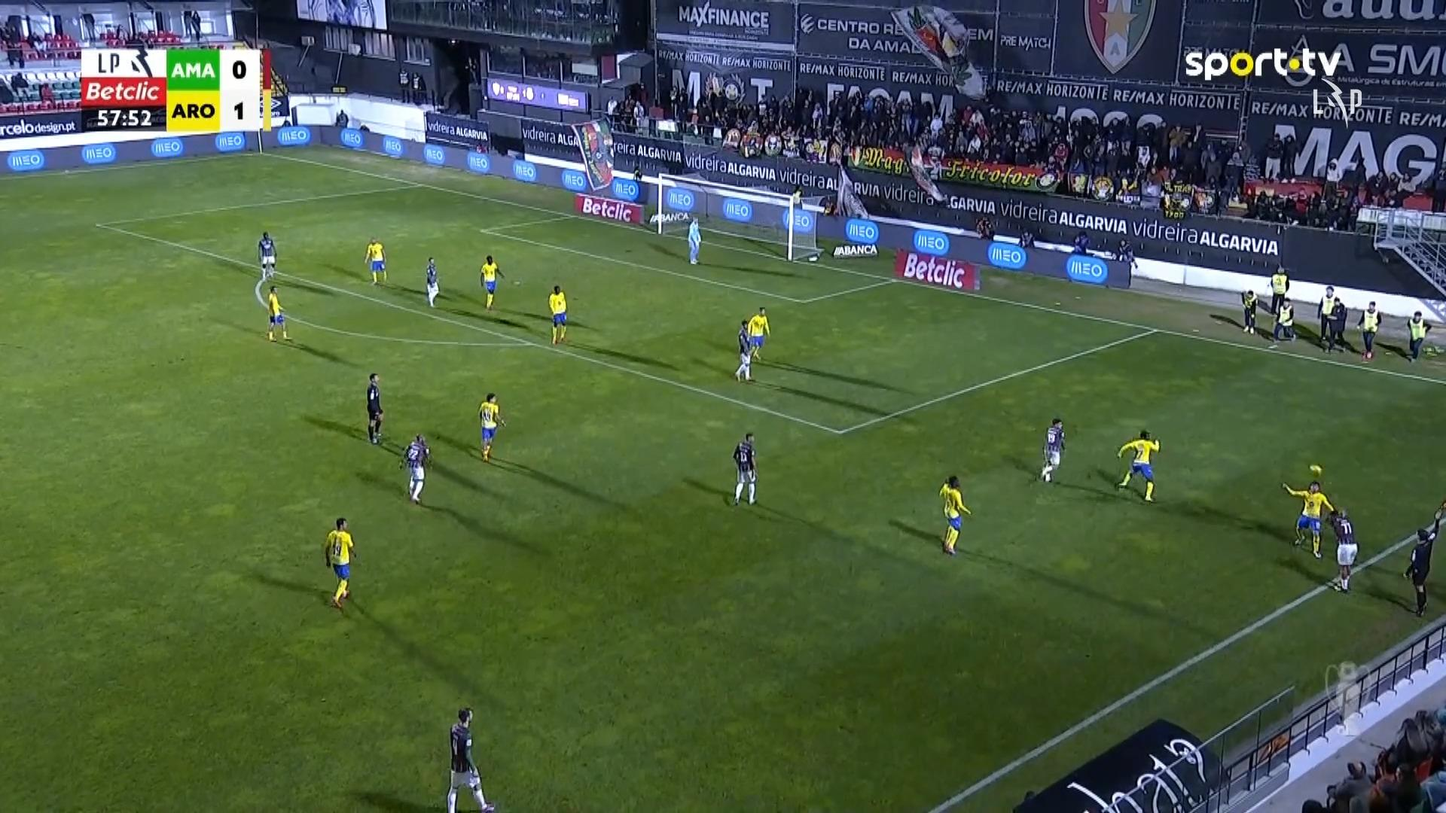ball: (1309, 464, 1321, 475)
goalkeeper: (686, 216, 701, 264)
player: (445, 706, 495, 811), (1280, 479, 1335, 559), (1114, 428, 1160, 502), (323, 516, 356, 611), (938, 474, 972, 555), (1328, 507, 1358, 592), (401, 433, 431, 504), (731, 431, 758, 506), (477, 392, 505, 461), (1040, 417, 1066, 483), (265, 285, 291, 341), (479, 254, 504, 310), (747, 306, 770, 361), (734, 319, 754, 382), (548, 284, 568, 344), (363, 236, 386, 285), (257, 230, 276, 280), (424, 256, 439, 307)
referee: (1402, 499, 1444, 617), (365, 373, 384, 444)
